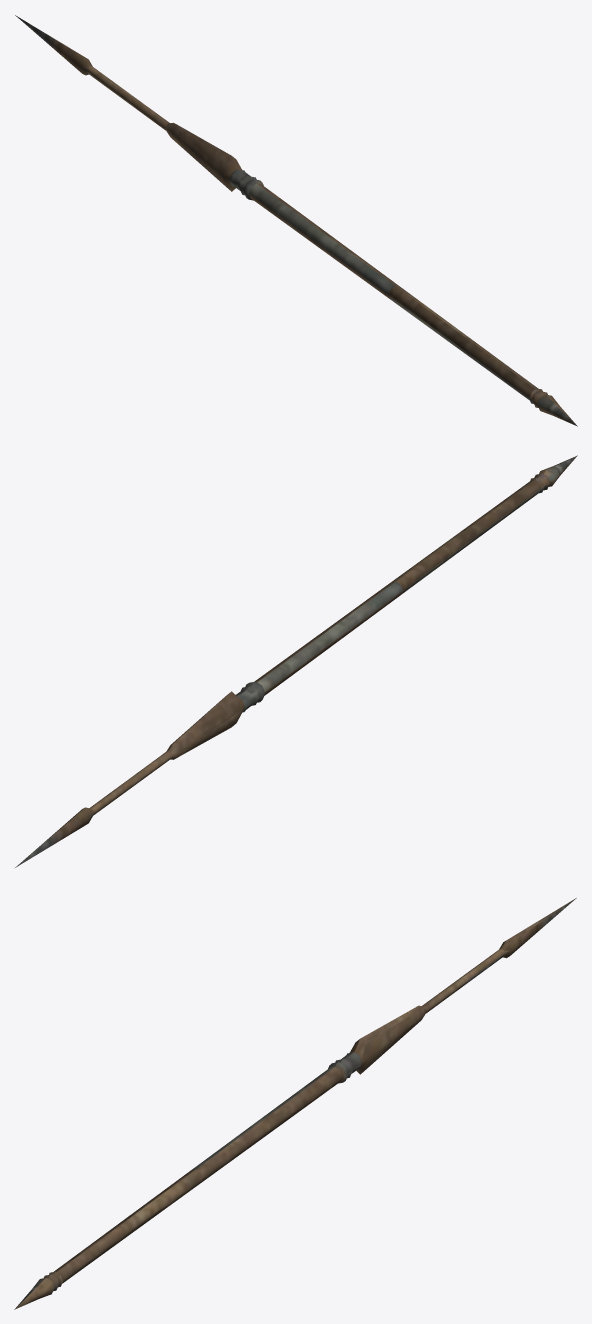
3 renders of one model, top to bottom at view 1: azimuth 30°, elevation 25°; view 2: azimuth 150°, elevation 25°; view 3: azimuth 330°, elevation 25°, orthographic.
Parts seen in each view (by area): view 1: mesh_0; view 2: mesh_0; view 3: mesh_0.
Boxes of the visible parts, x1,y1,x2,y2 form: mesh_0: [15, 15, 577, 426]; mesh_0: [15, 455, 577, 867]; mesh_0: [14, 898, 576, 1309].
Bounding box in the file's own units: 2.01 × 3.57 × 101.
1 material, 1 textured.
